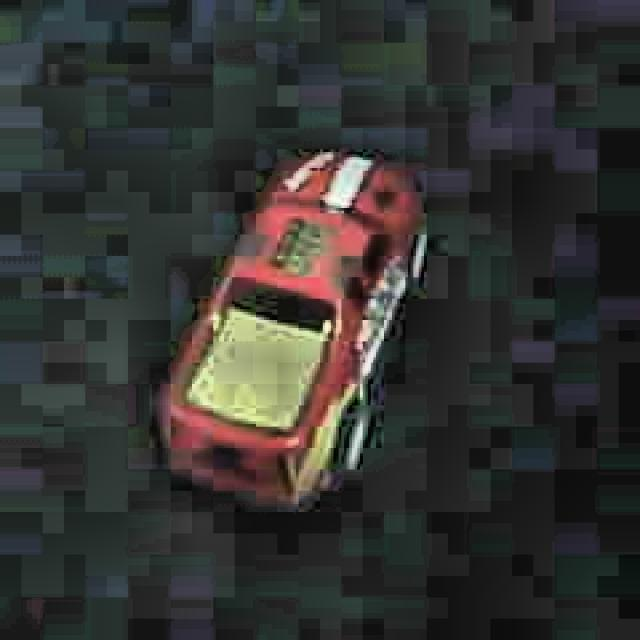car: (156, 143, 432, 518)
